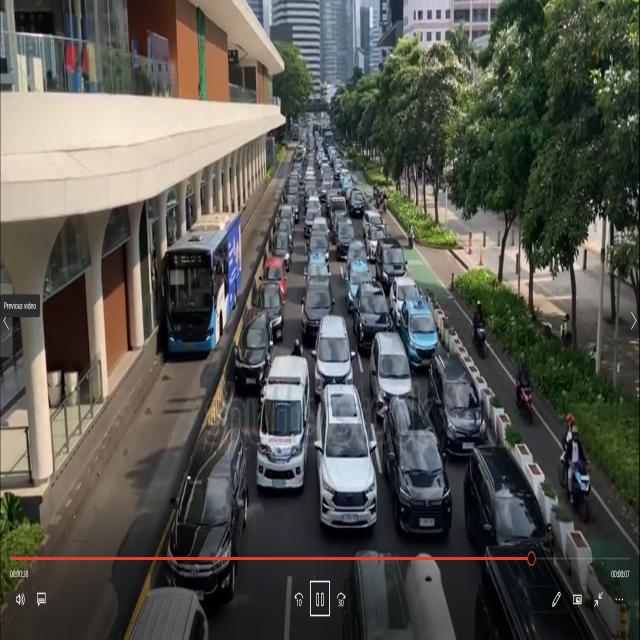Ambulance: (258, 352, 310, 496)
